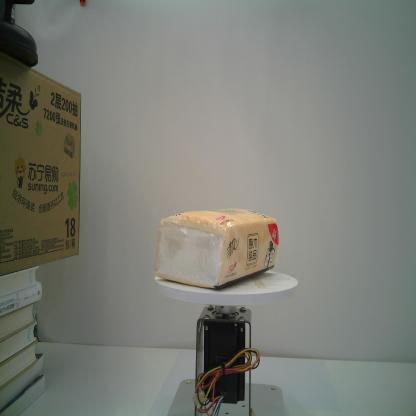Tissue: (153, 206, 280, 292)
